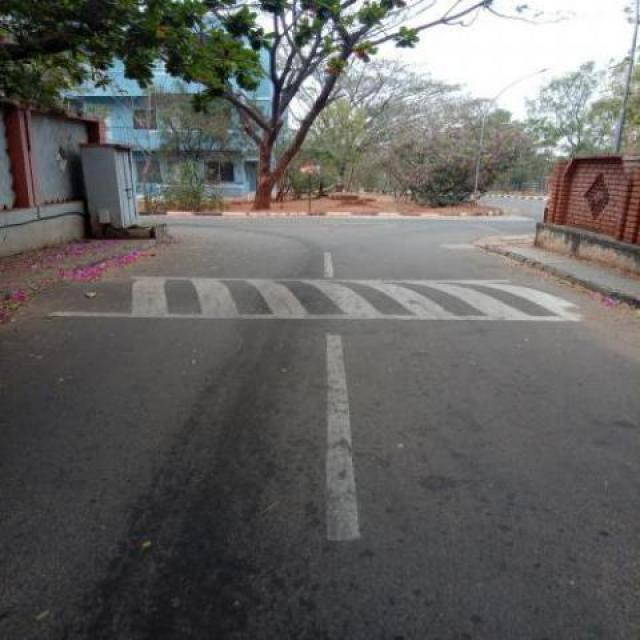Speed Bump: (26, 276, 598, 322)
